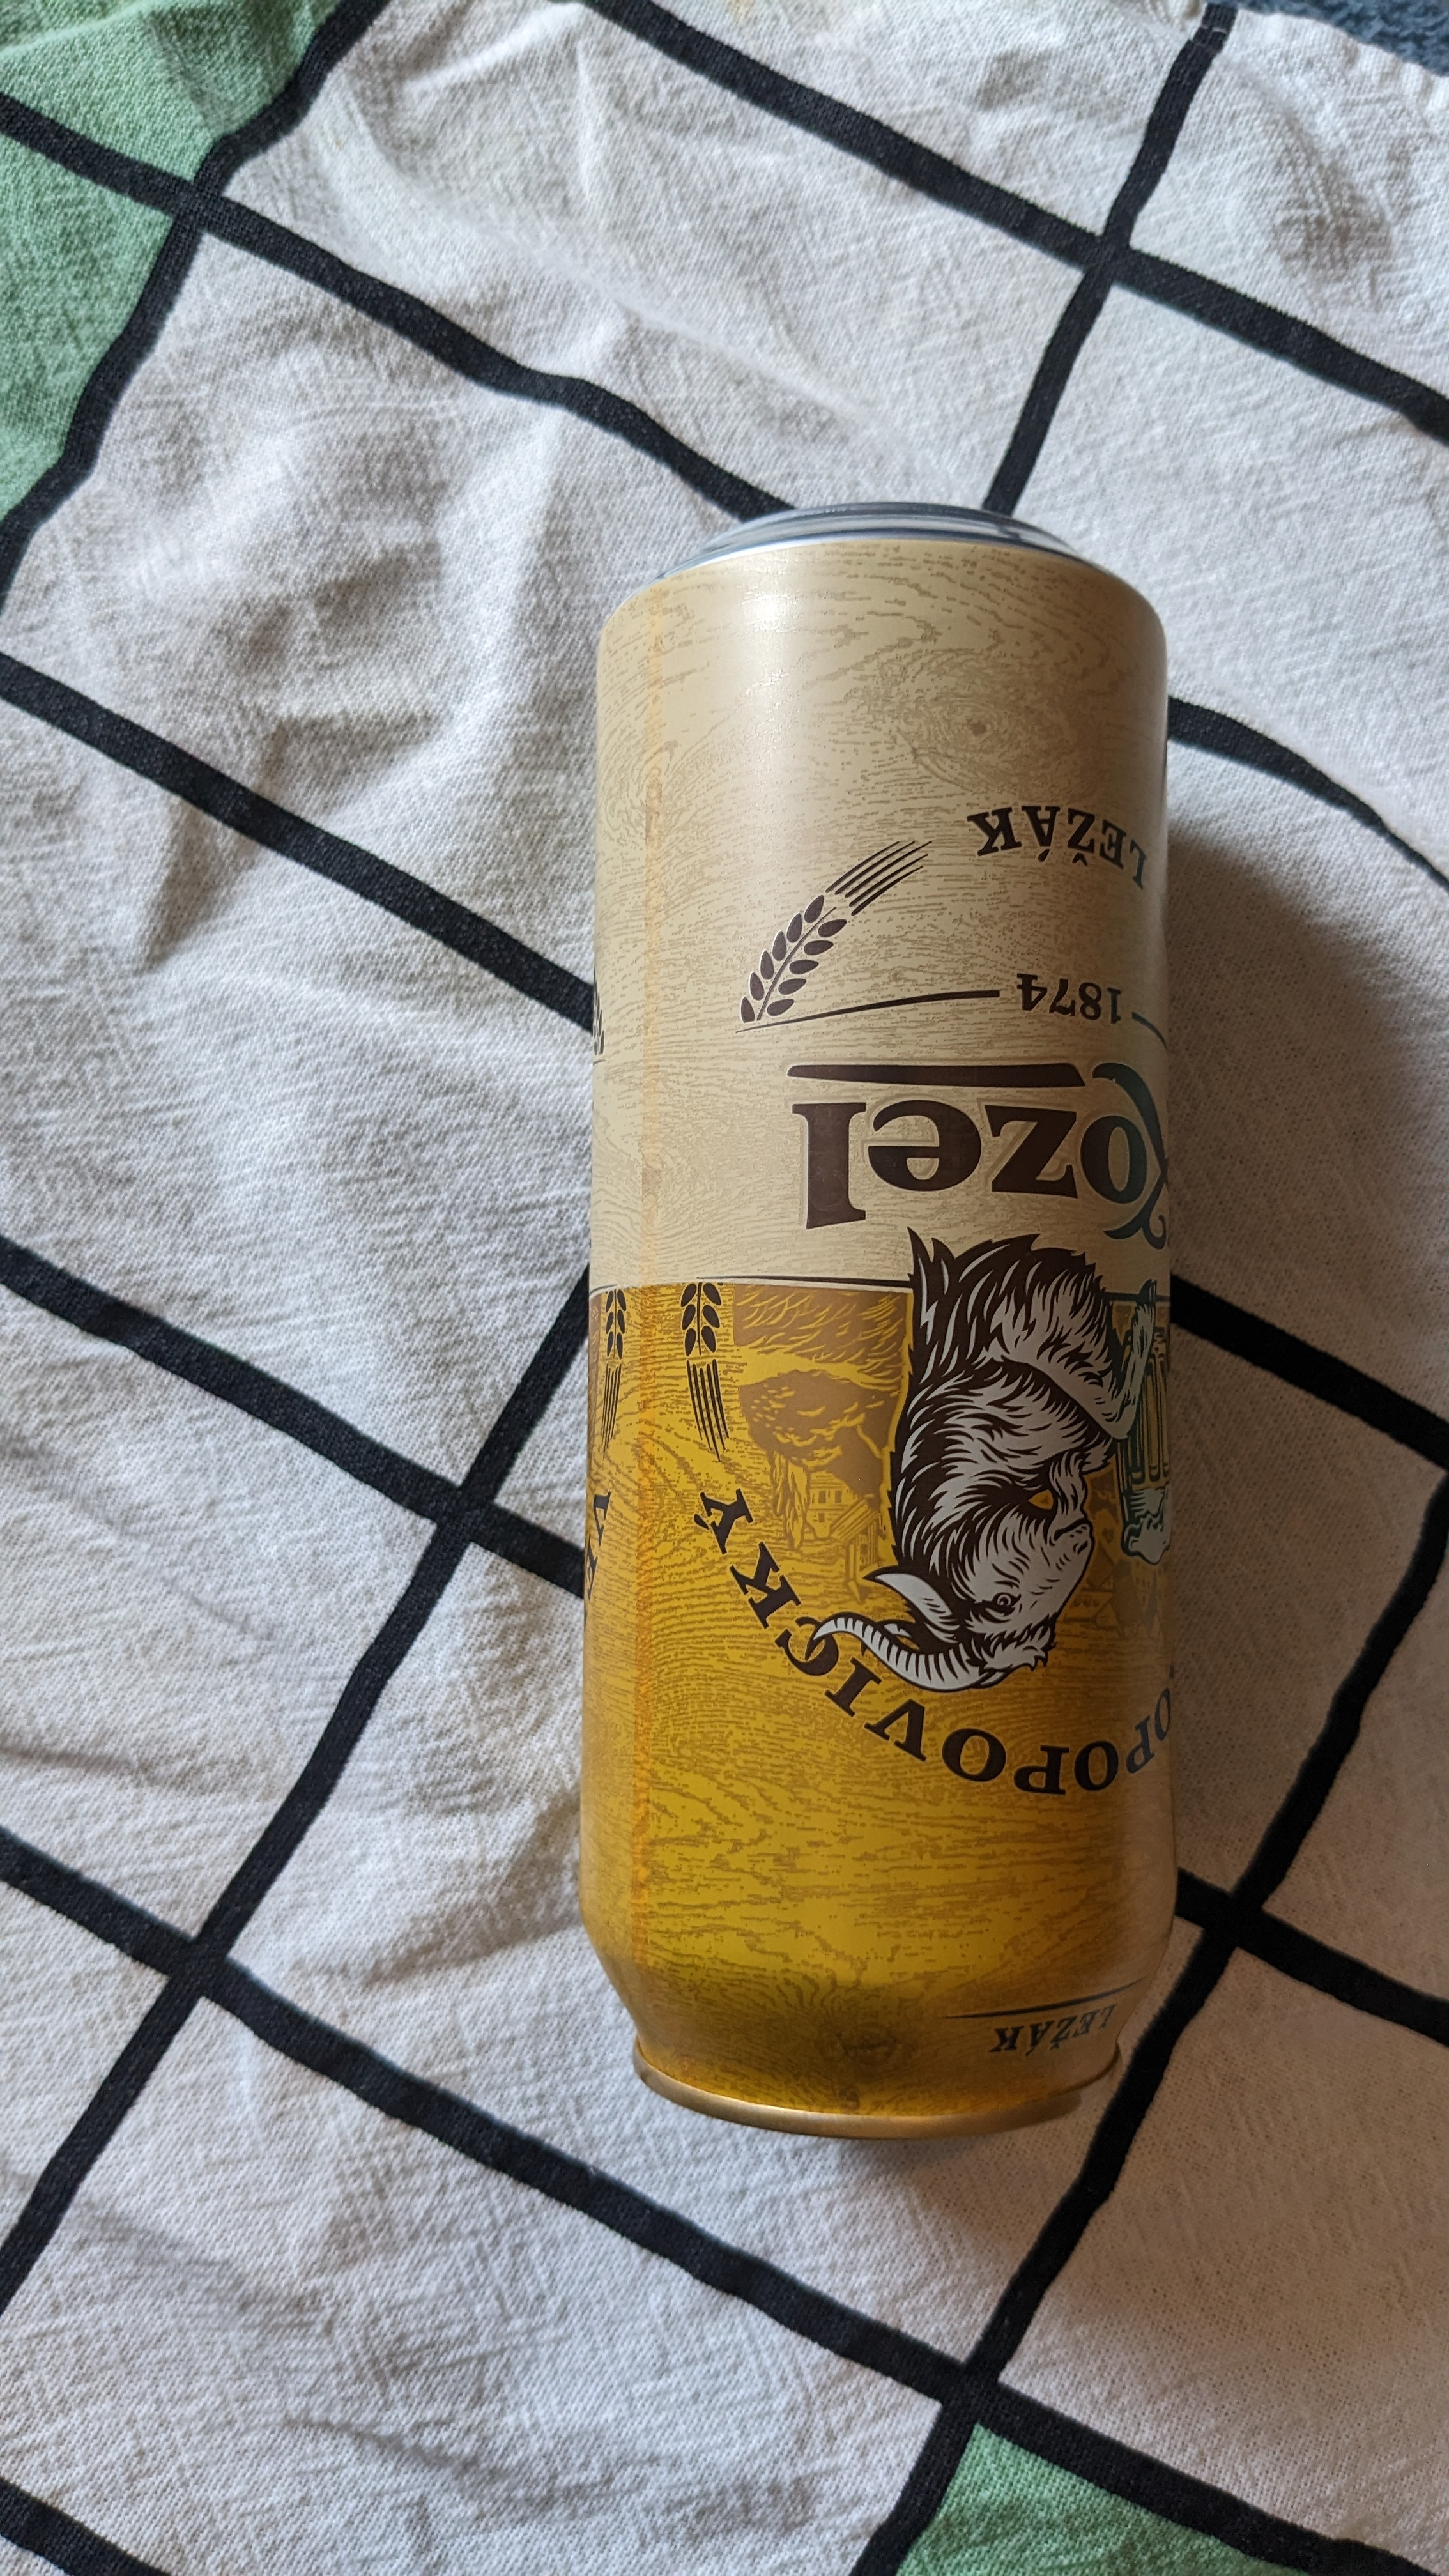kozel: (554, 462, 1214, 2181)
